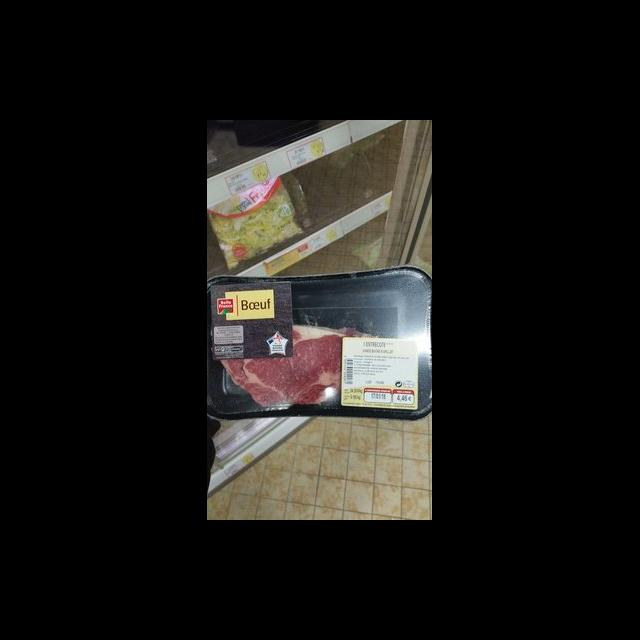beef: (223, 326, 346, 406)
